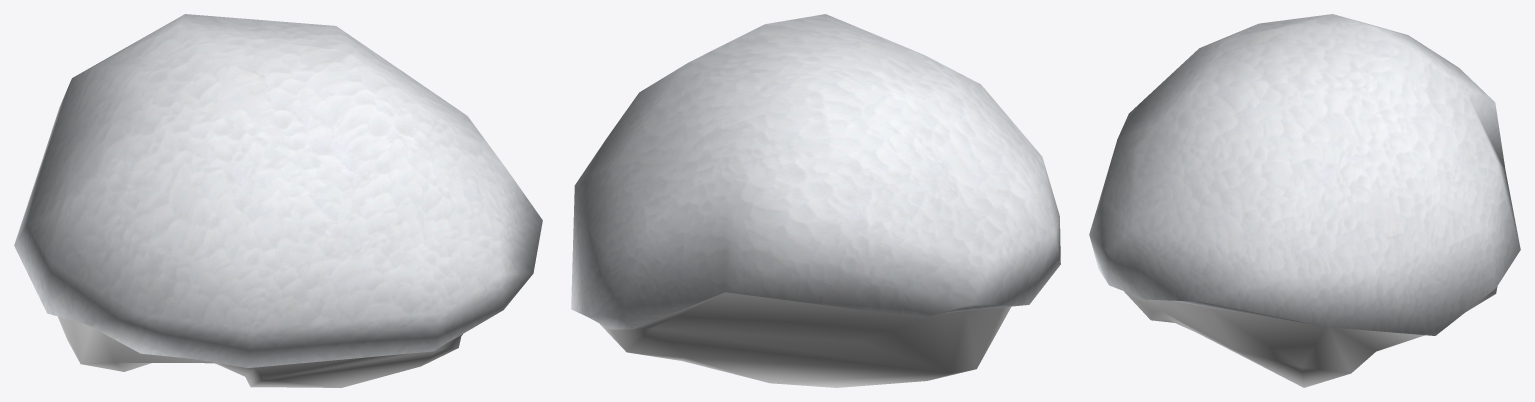
Rendered from rock_s04c.fbx.
The picture shows the model from 3 angles, left to right: view 1: azimuth 30°, elevation 25°; view 2: azimuth 150°, elevation 25°; view 3: azimuth 270°, elevation 25°; orthographic projection. The views are drawn at different scales.
Visible parts, largest first — view 1: rock_s04c; view 2: rock_s04c; view 3: rock_s04c.
Boxes of the visible parts, box(x1,y1,x2,y2) form: rock_s04c: box(14, 14, 542, 387); rock_s04c: box(571, 14, 1060, 387); rock_s04c: box(1089, 14, 1520, 387).
Size of the model in its own units: 253 by 163 by 242.
